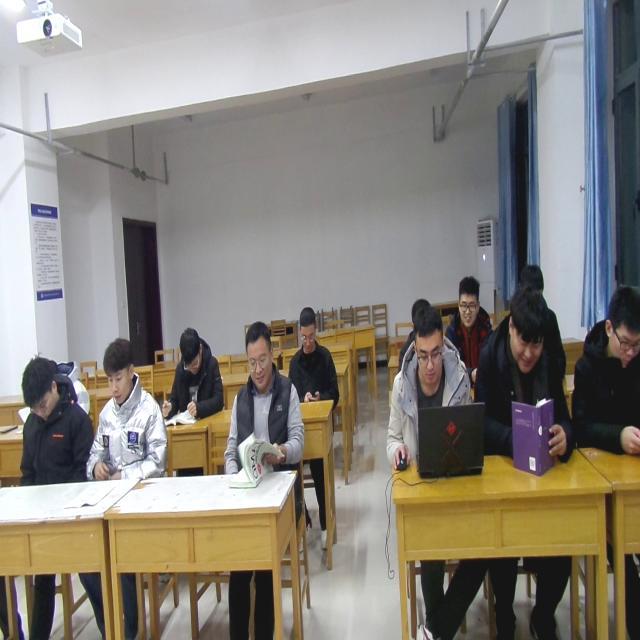down: (501, 286, 553, 378), (408, 299, 444, 391), (16, 351, 61, 422), (600, 284, 638, 368), (97, 333, 133, 409), (242, 319, 276, 391), (294, 303, 320, 355), (178, 324, 204, 374)
lookup: (454, 269, 480, 337)
sit: (471, 288, 575, 462), (385, 310, 477, 472), (224, 318, 306, 478), (84, 334, 170, 482), (572, 284, 639, 462), (16, 355, 94, 491), (444, 274, 496, 389), (161, 324, 223, 420), (286, 306, 341, 404)
